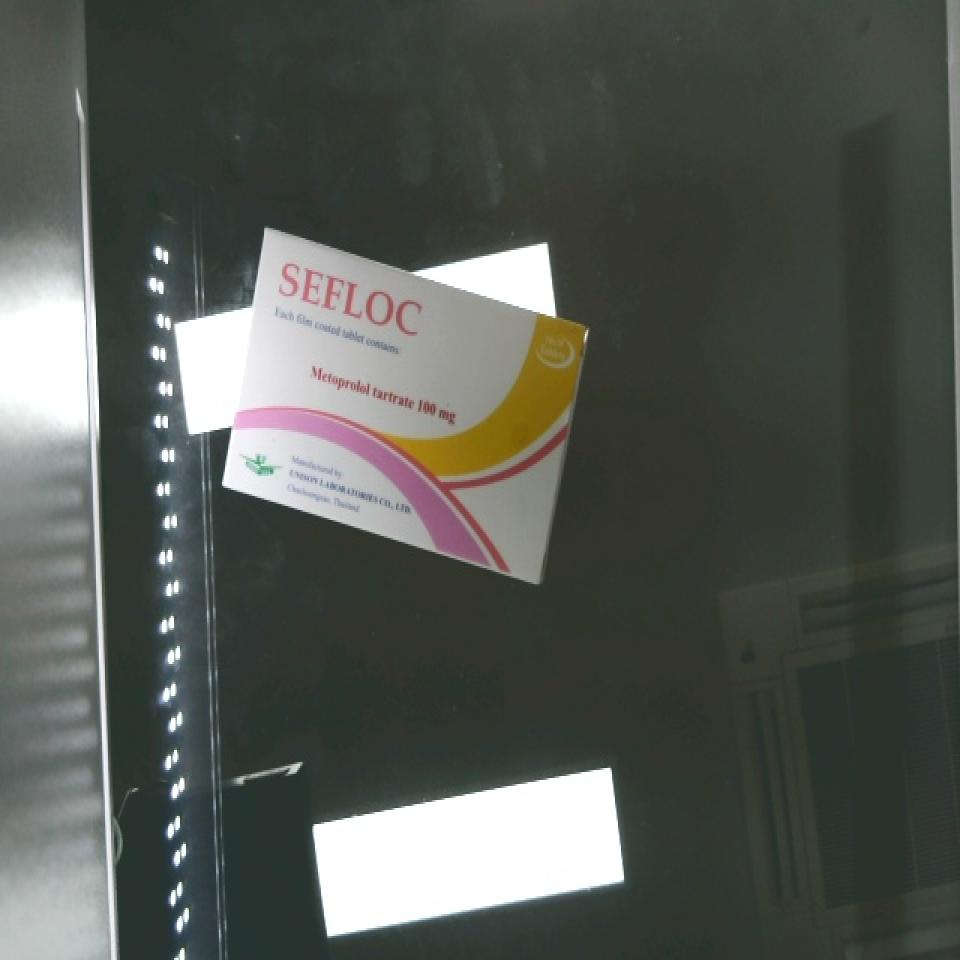medicine_box: (188, 226, 620, 591)
medicine_label_obb: (250, 236, 447, 357)
